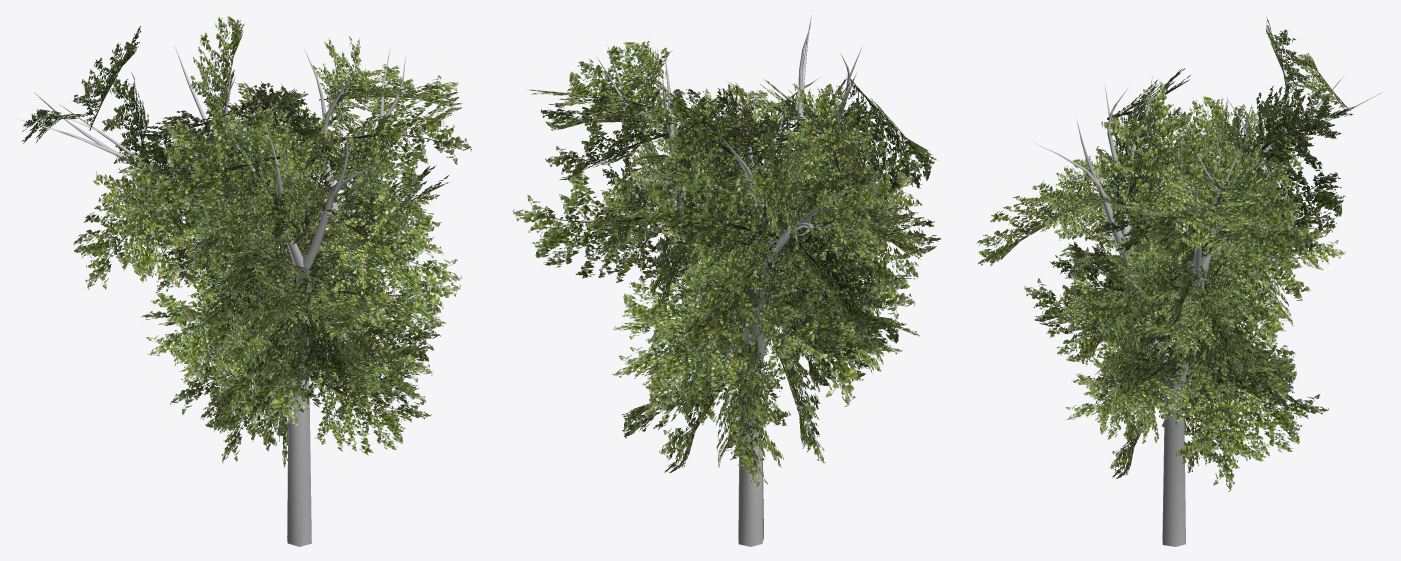
The model's file is tree3.001.fbx.
3 views of the same model, side by side, from view 1: azimuth 30°, elevation 25°; view 2: azimuth 150°, elevation 25°; view 3: azimuth 270°, elevation 25° (orthographic). The views are drawn at different scales.
Visible parts, largest first — view 1: tree3.001; view 2: tree3.001; view 3: tree3.001.
Boxes of the visible parts, box(x1,y1,x2,y2) form: tree3.001: box(18, 16, 471, 546); tree3.001: box(512, 15, 941, 546); tree3.001: box(976, 17, 1382, 546).
Bounding box in the file's own units: 2.39 × 2.81 × 2.24.
